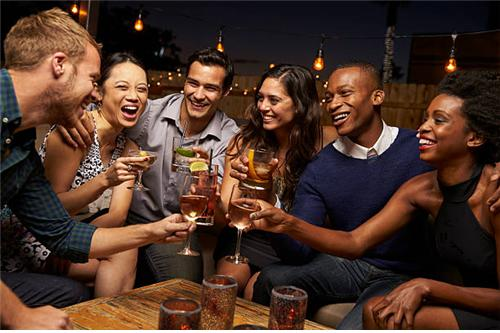alcohol: (178, 175, 212, 257), (228, 181, 262, 262), (200, 278, 239, 330), (173, 138, 203, 200), (271, 288, 309, 328), (245, 149, 273, 197), (193, 162, 221, 208), (157, 297, 196, 327)
